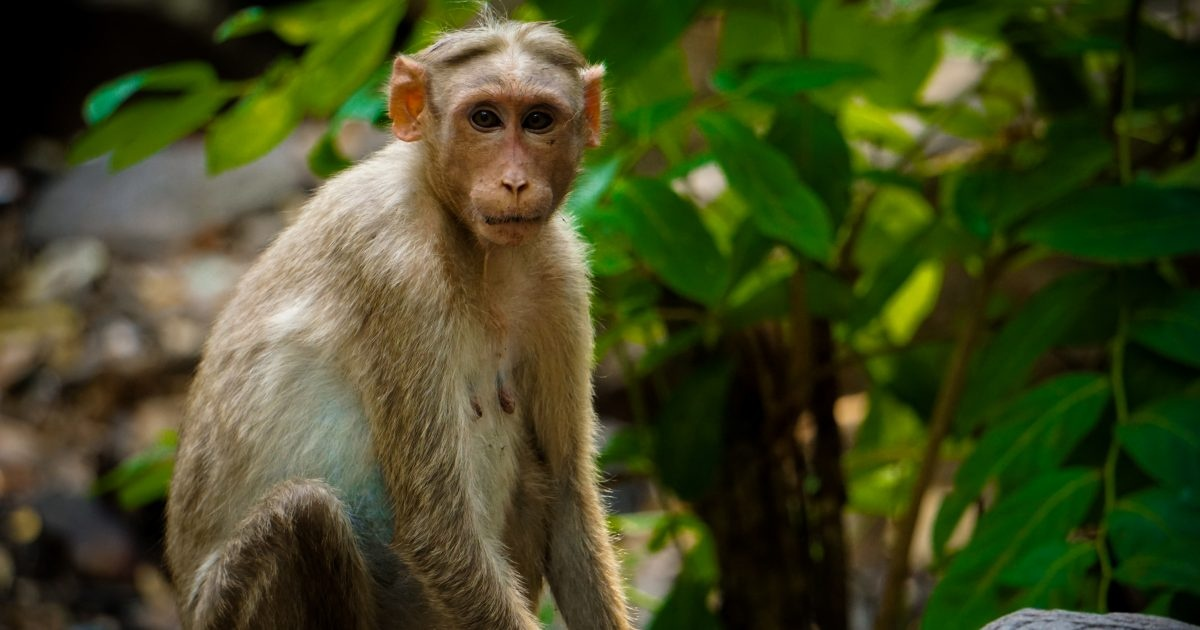monkey: (141, 11, 661, 628)
